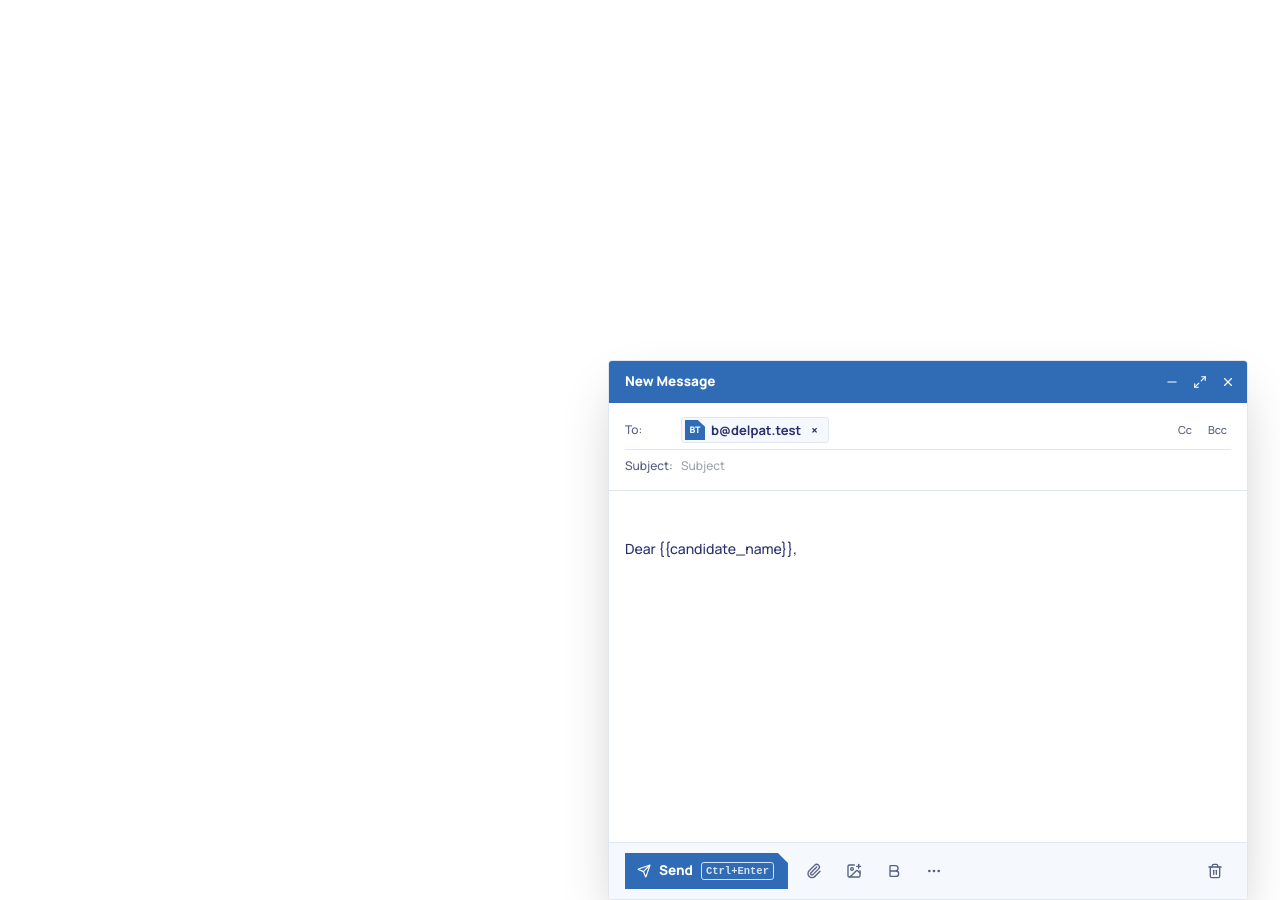
Test: templates in the composer › blocks Send for a placeholder left in the body
The width and height of the screenshot is (1280, 900).
Click the button "Send Ctrl+Enter": (706, 871) [625,853,788,889]
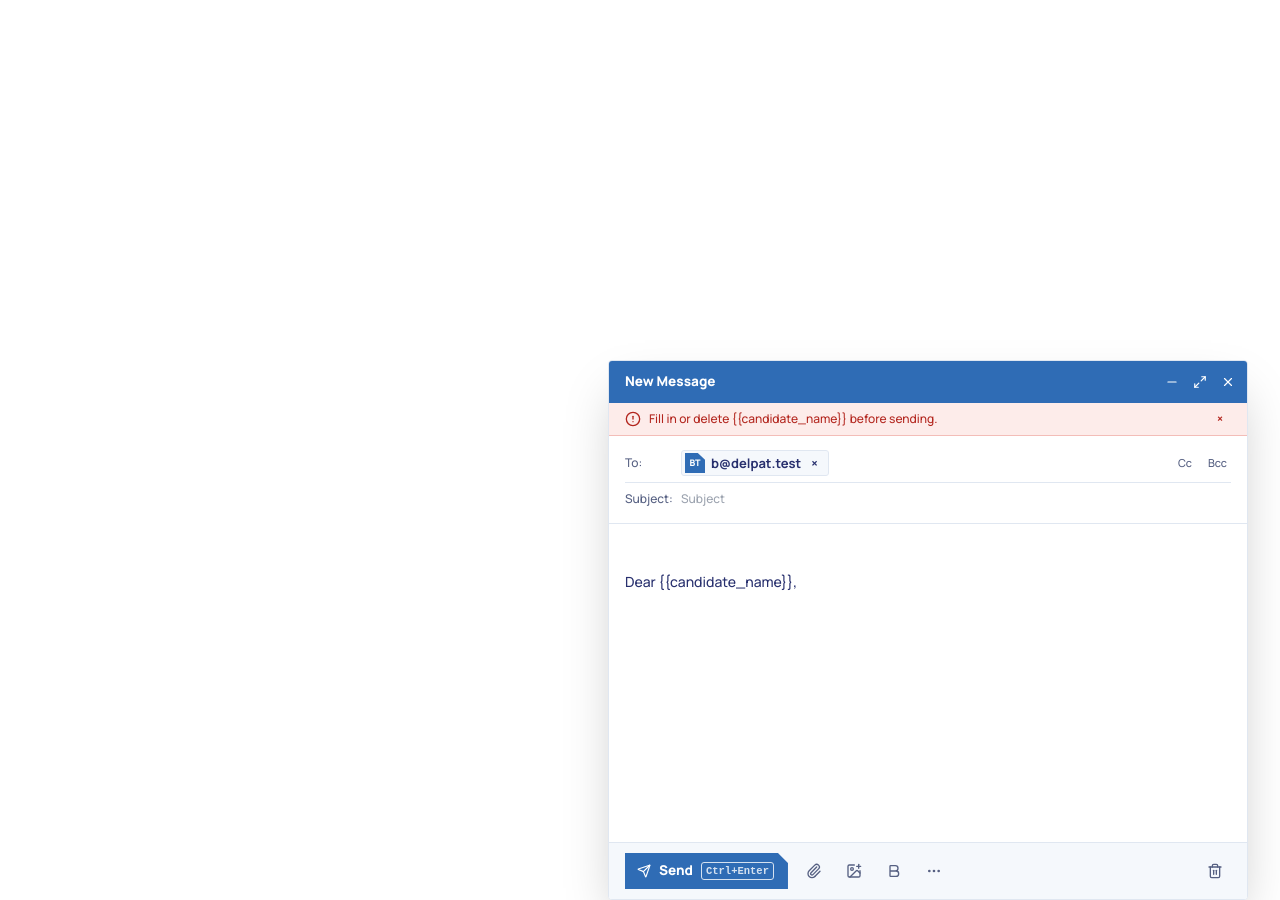
Check: the text "Fill in or delete {{candidate_name}} before sending." is shown, box [649,410,938,427]
